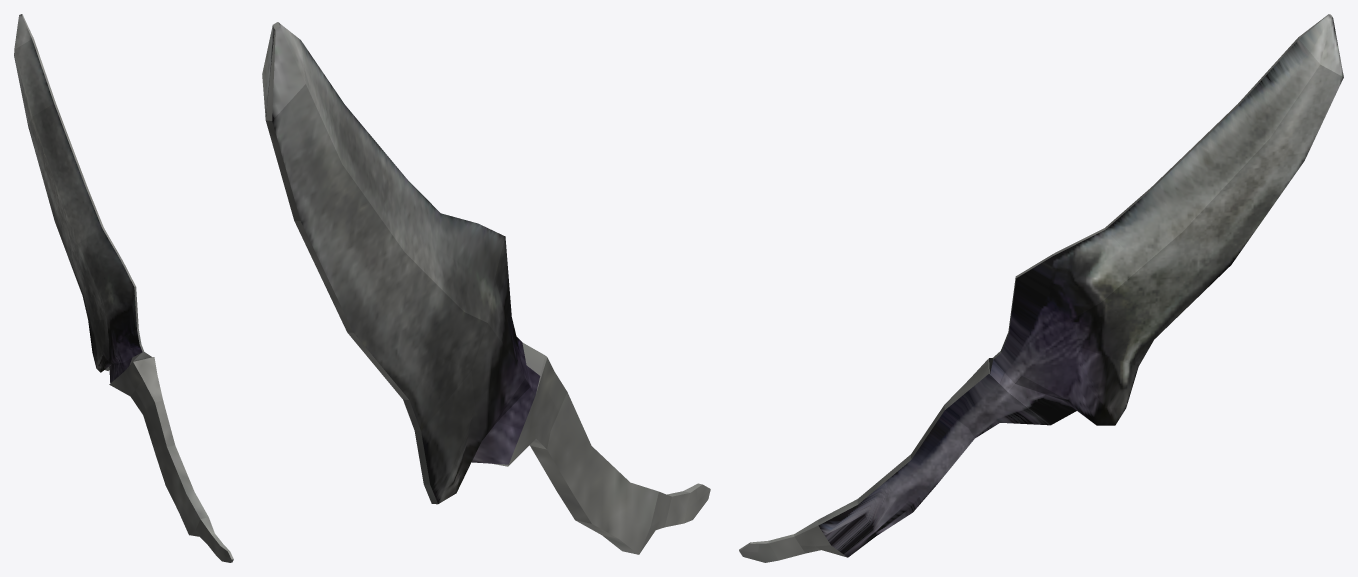
Rendered from swords.fbx.
3 renders of one model, left to right at view 1: azimuth 30°, elevation 25°; view 2: azimuth 150°, elevation 25°; view 3: azimuth 270°, elevation 25°, orthographic. The views are drawn at different scales.
Visible parts, largest first — view 1: Plane; view 2: Plane; view 3: Plane.
Boxes of the visible parts, left/top/right/bottom form: Plane: left=14, top=14, right=233, bottom=562; Plane: left=262, top=22, right=710, bottom=554; Plane: left=739, top=14, right=1343, bottom=562.
Size of the model in its own units: 86.96 by 1335 by 1332.
